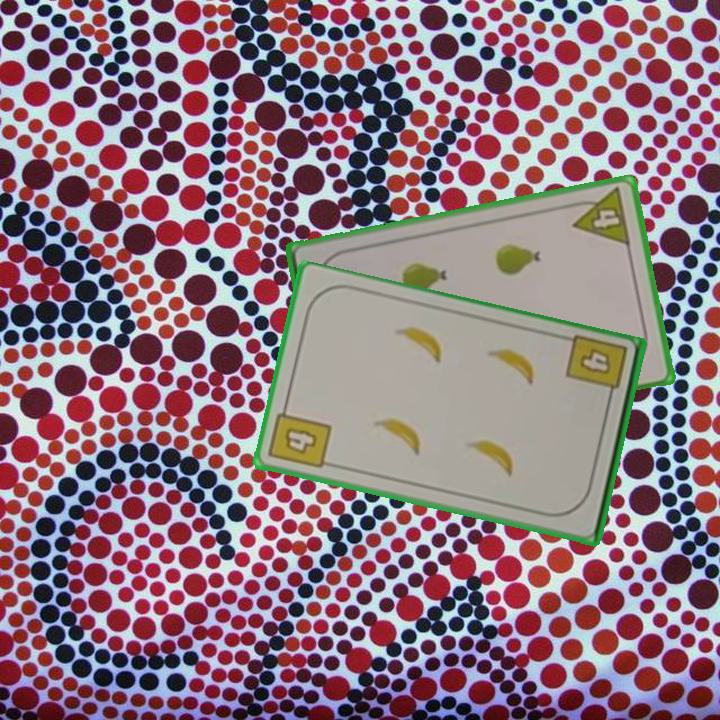4b: (562, 332, 631, 406), (265, 400, 335, 472)
4p: (566, 184, 633, 249)
